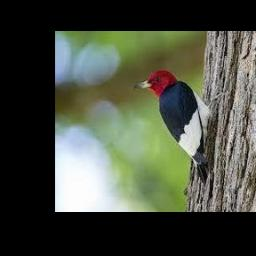Woodpecker: (133, 69, 222, 183)
